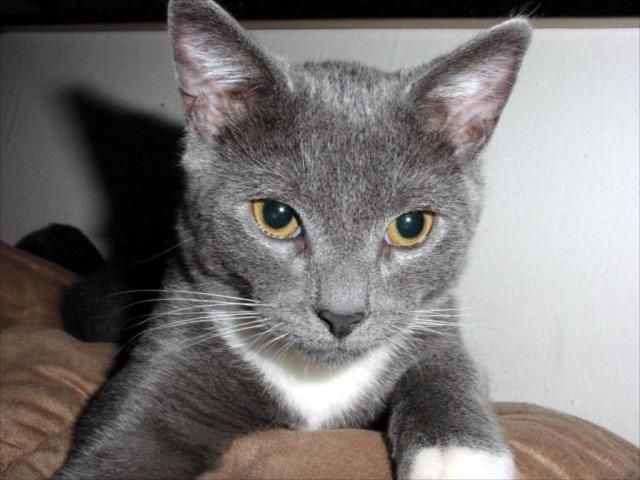Cat: (40, 0, 537, 479)
